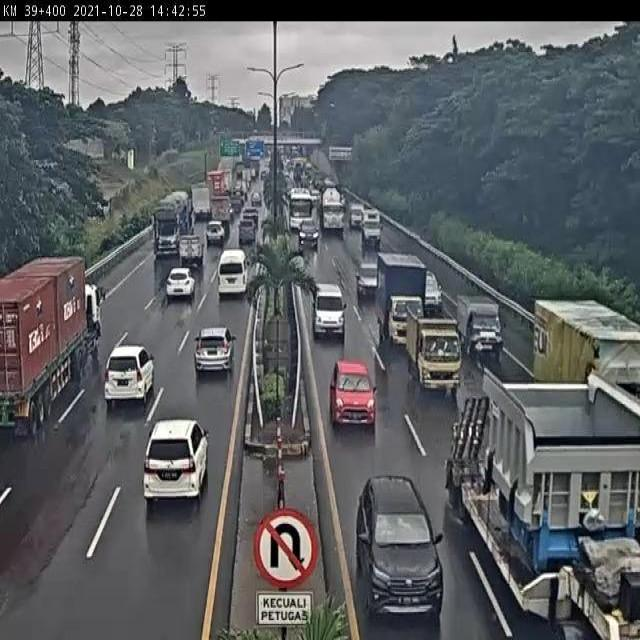big truck: (0, 260, 105, 435)
car: (355, 476, 445, 629), (145, 419, 209, 504), (330, 359, 380, 433), (106, 341, 155, 404), (193, 327, 237, 376), (313, 280, 348, 341), (218, 249, 251, 296), (356, 262, 390, 302), (166, 267, 196, 301)
small truck: (404, 302, 466, 394), (375, 250, 430, 350), (457, 294, 506, 358)
